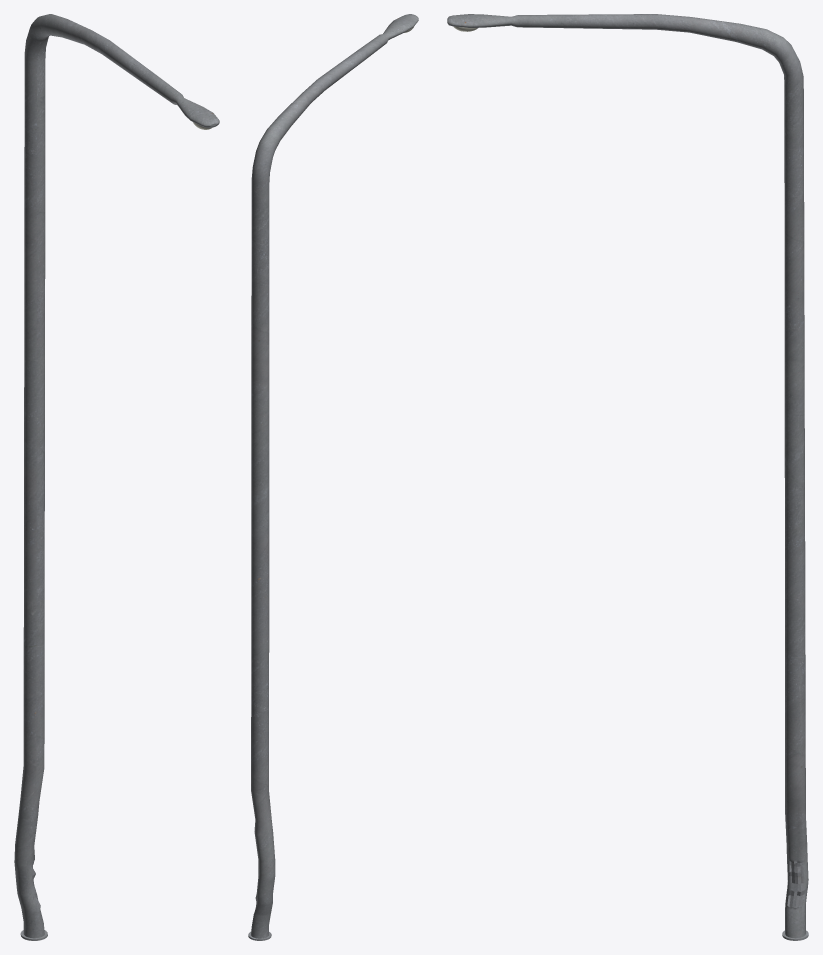
The model's file is streetlightPole.fbx.
3 renders of one model, left to right at view 1: azimuth 30°, elevation 25°; view 2: azimuth 150°, elevation 25°; view 3: azimuth 270°, elevation 25°, orthographic. The views are drawn at different scales.
Visible parts, largest first — view 1: streetlight; view 2: streetlight; view 3: streetlight.
Part boxes in pixels (x1=…): streetlight: x1=14, y1=14, x2=219, y2=940; streetlight: x1=248, y1=14, x2=418, y2=940; streetlight: x1=447, y1=14, x2=808, y2=940.
Size of the model in its own units: 22.21 by 685 by 244.
